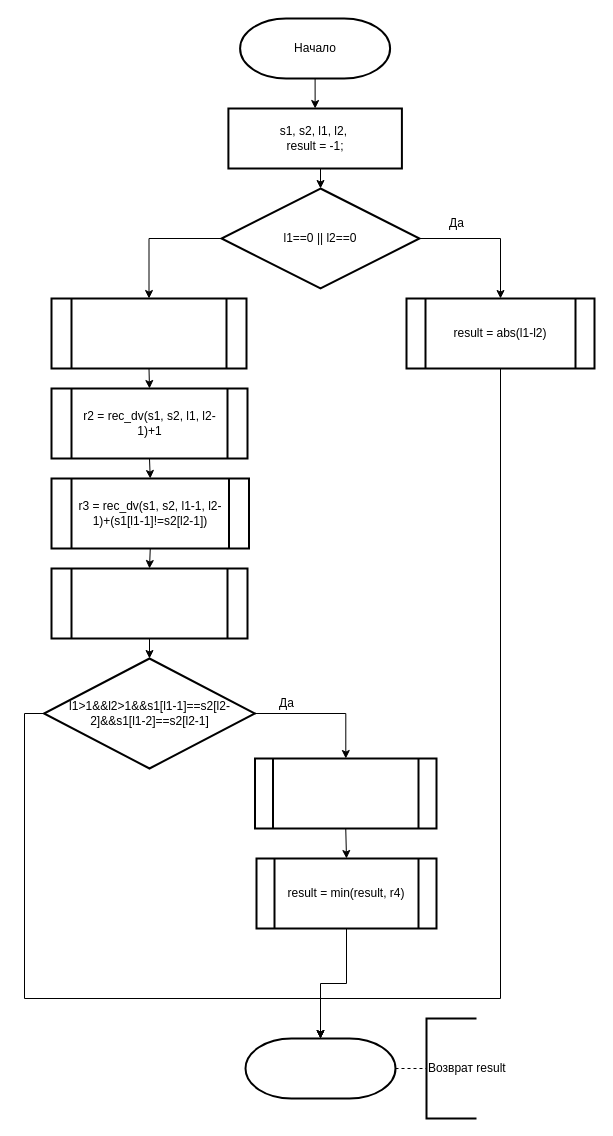
Some shapes in this 613 by 1136 pixel diagram are drawn without their labels. The box of each missing label's shape, as (x1, y1, x2, y2) in pixels:
r1 = rec_dv(s1, s2, l1-1, l2)+1: (50, 297, 247, 369)
r4 = rec_dv(s1, s2, l1-2, l2-2)+1: (254, 757, 437, 829)
result = min(r1, r2, r3): (50, 567, 248, 639)
Конец: (244, 1037, 396, 1099)
